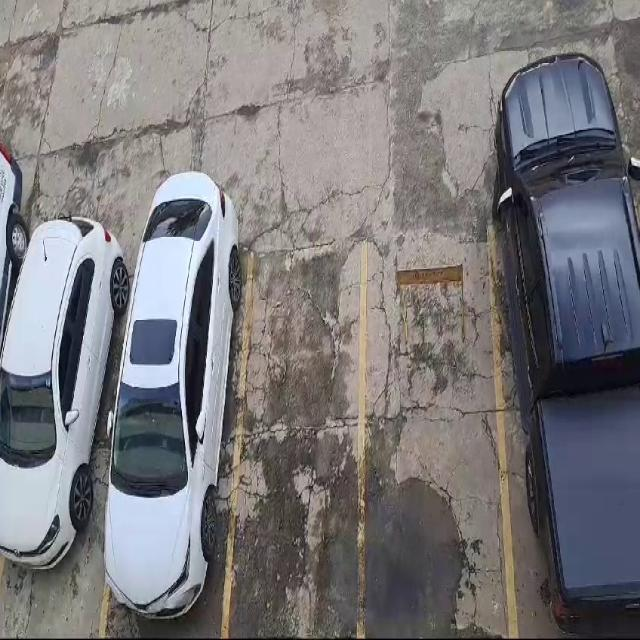empty: (361, 227, 514, 638), (225, 246, 365, 638)
notEmpty: (491, 207, 639, 637), (102, 260, 251, 637), (0, 268, 141, 637)
